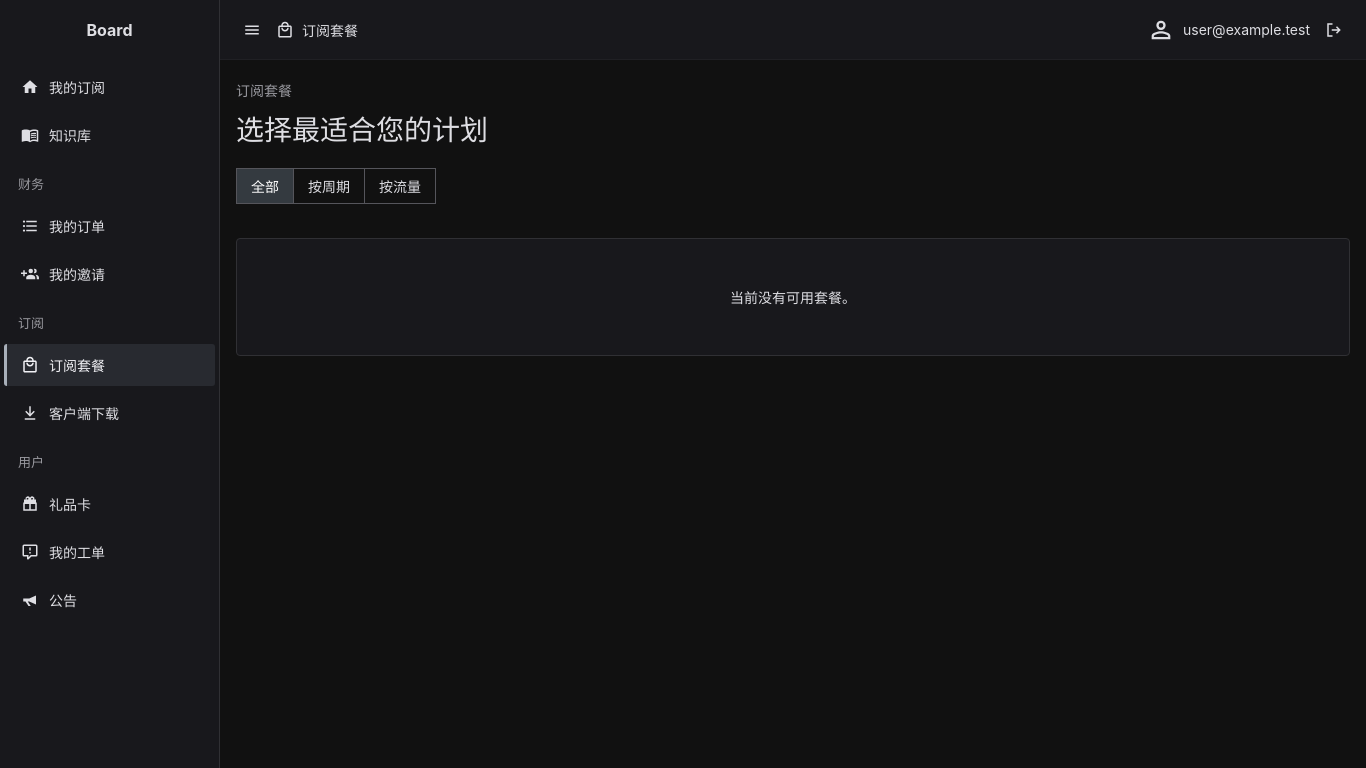
Scenario: UserPortal › opens plans for a new user and hides the address even after opening My Subscription
Expected: the heading "订阅套餐" is shown, left=236, top=82, right=292, bottom=99
Click the button "我的订阅" at (110, 87), box left=4, top=66, right=215, bottom=108
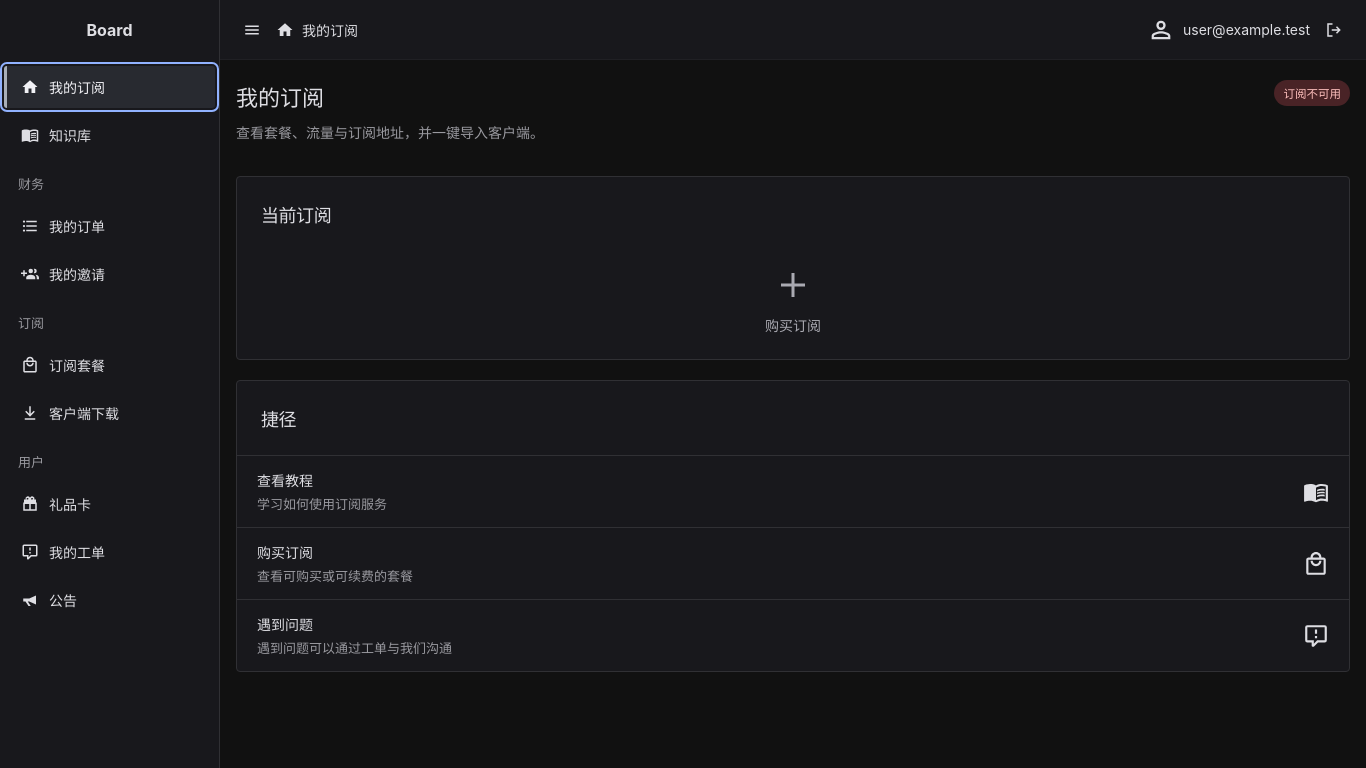
Result: the heading "我的订阅" is shown at left=236, top=85, right=324, bottom=111
